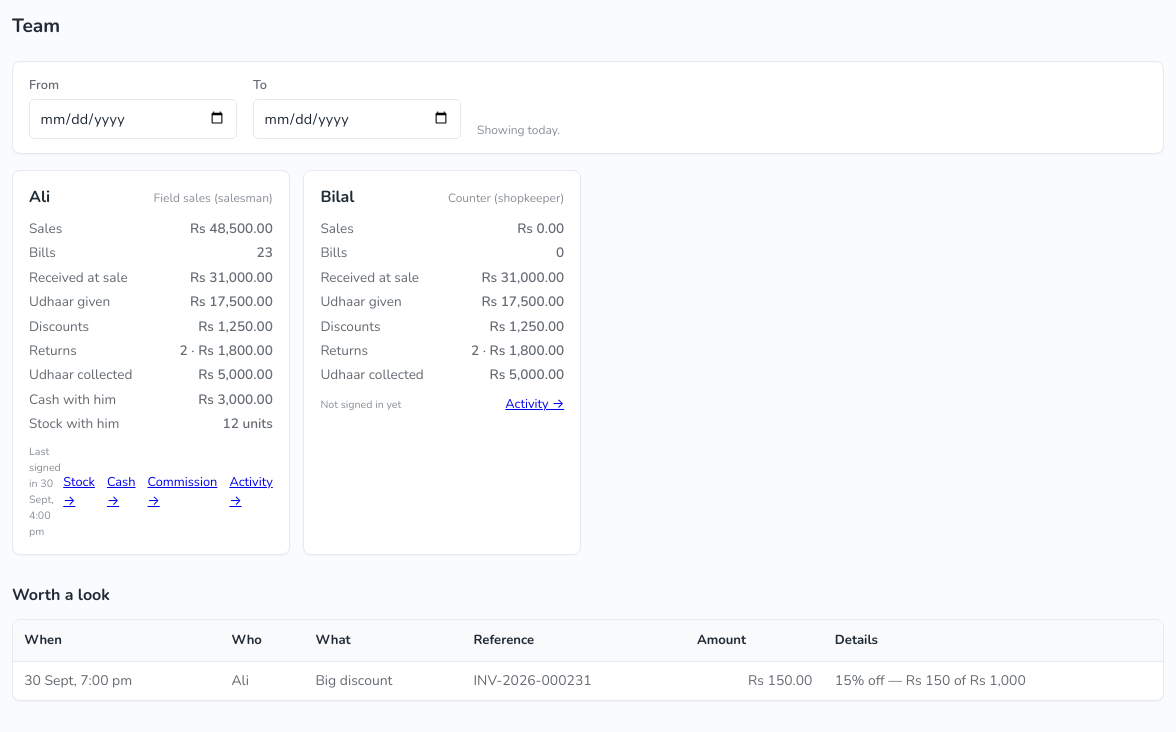
Team overview › opens a person’s activity from their card
Click the link "Activity →" next to "Commission →" at (251, 492), box [229,473,273,511]
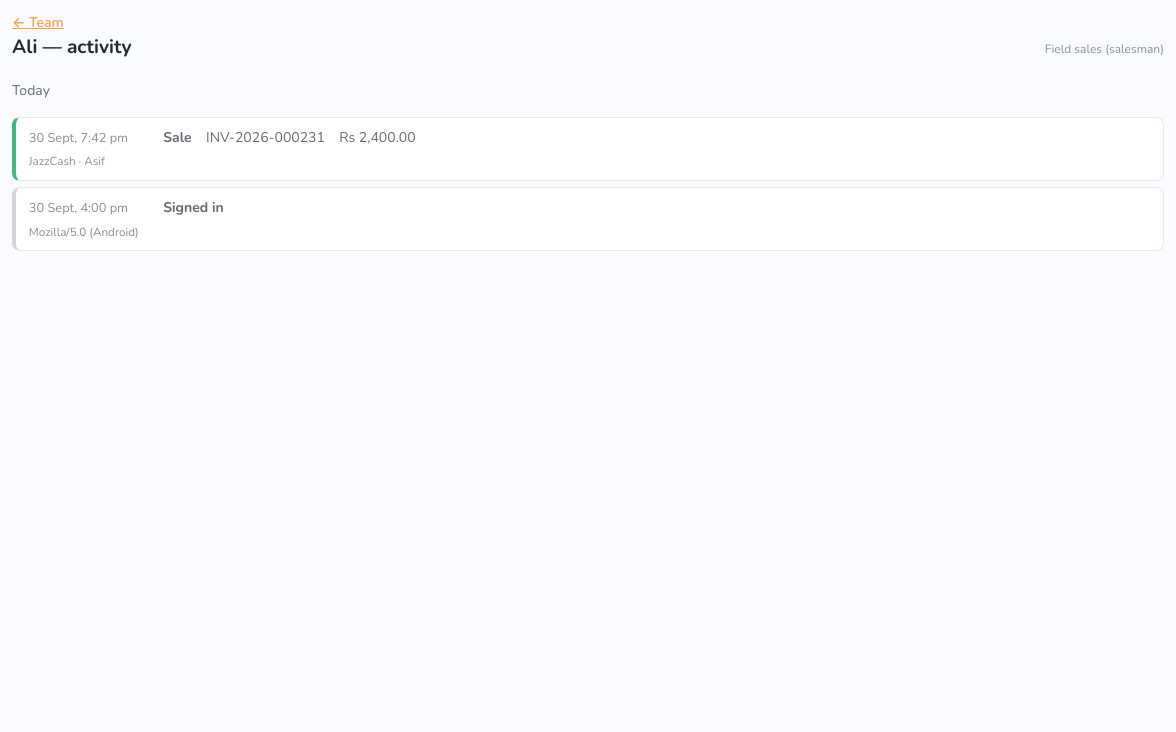
Check: the heading "Ali — activity" is shown, box [12,33,132,62]
